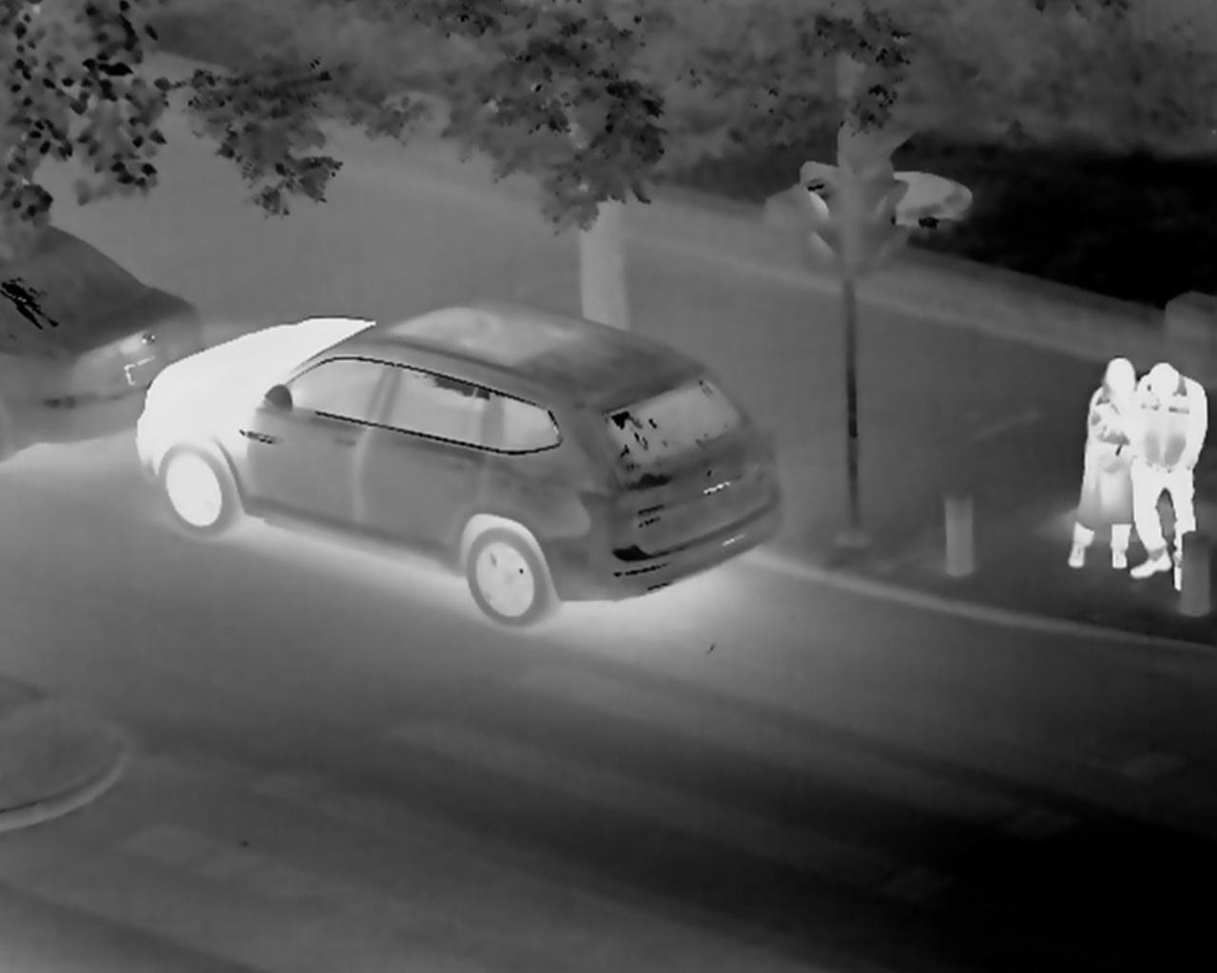person: (1135, 353, 1202, 597), (1072, 348, 1127, 569)
